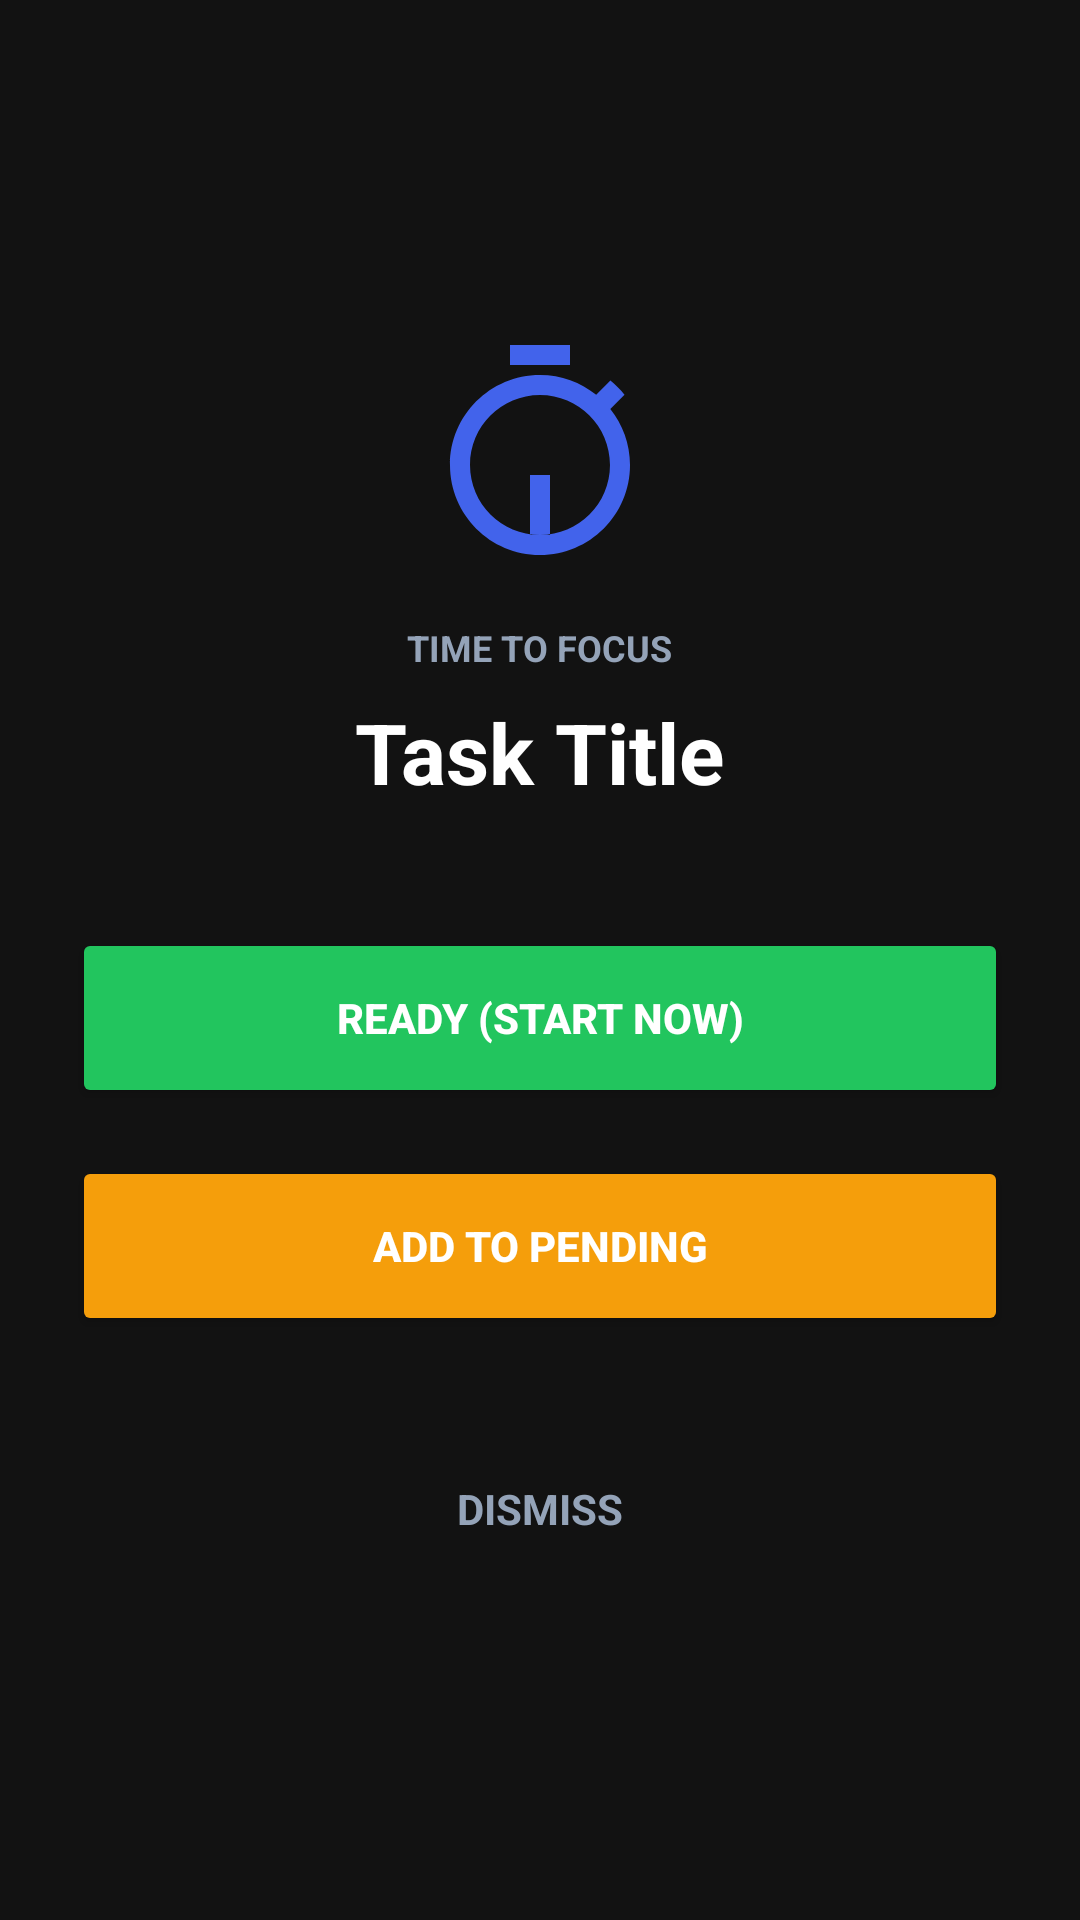

Icons on this 1080px×1920px Android screen, each with its box as [left=x1, top=y1, right=x2, bottom=y2]:
timer: [left=450, top=345, right=630, bottom=555]
